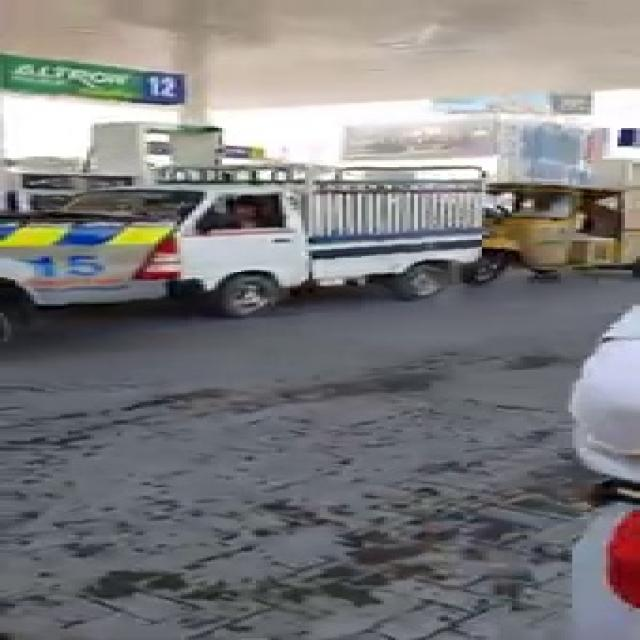police: (2, 208, 190, 331)
